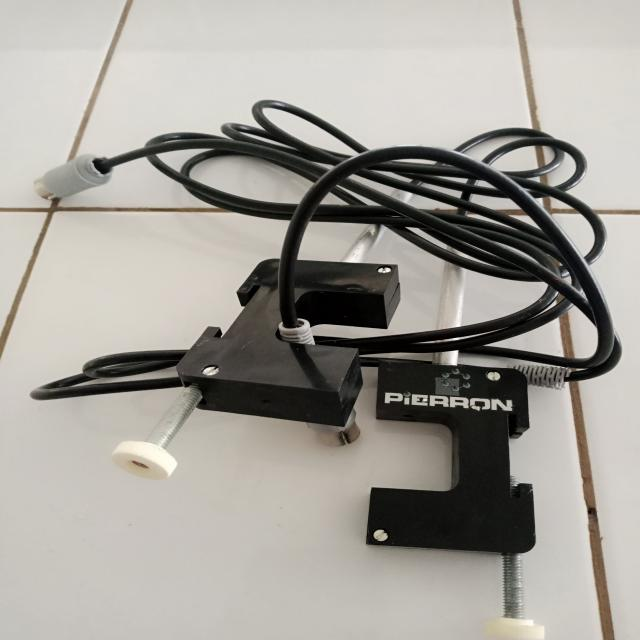Bulb Socket: (32, 113, 613, 473)
